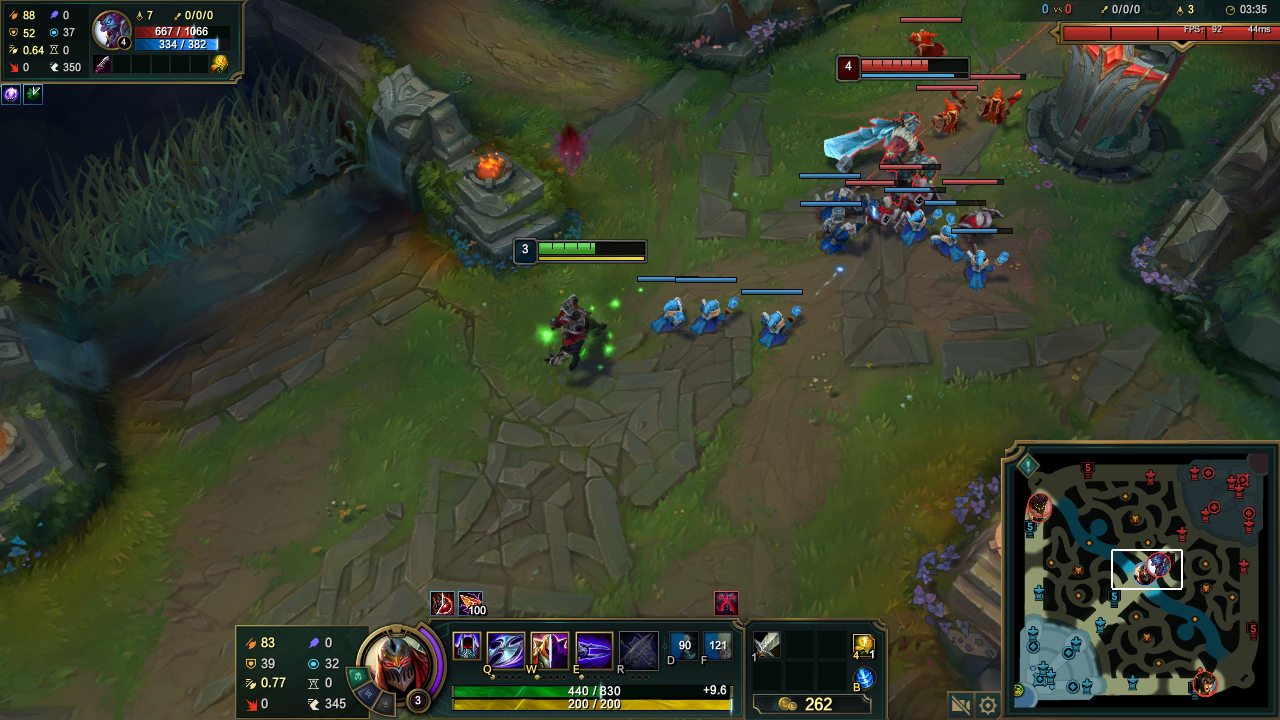DFYX: (861, 58, 968, 69)
